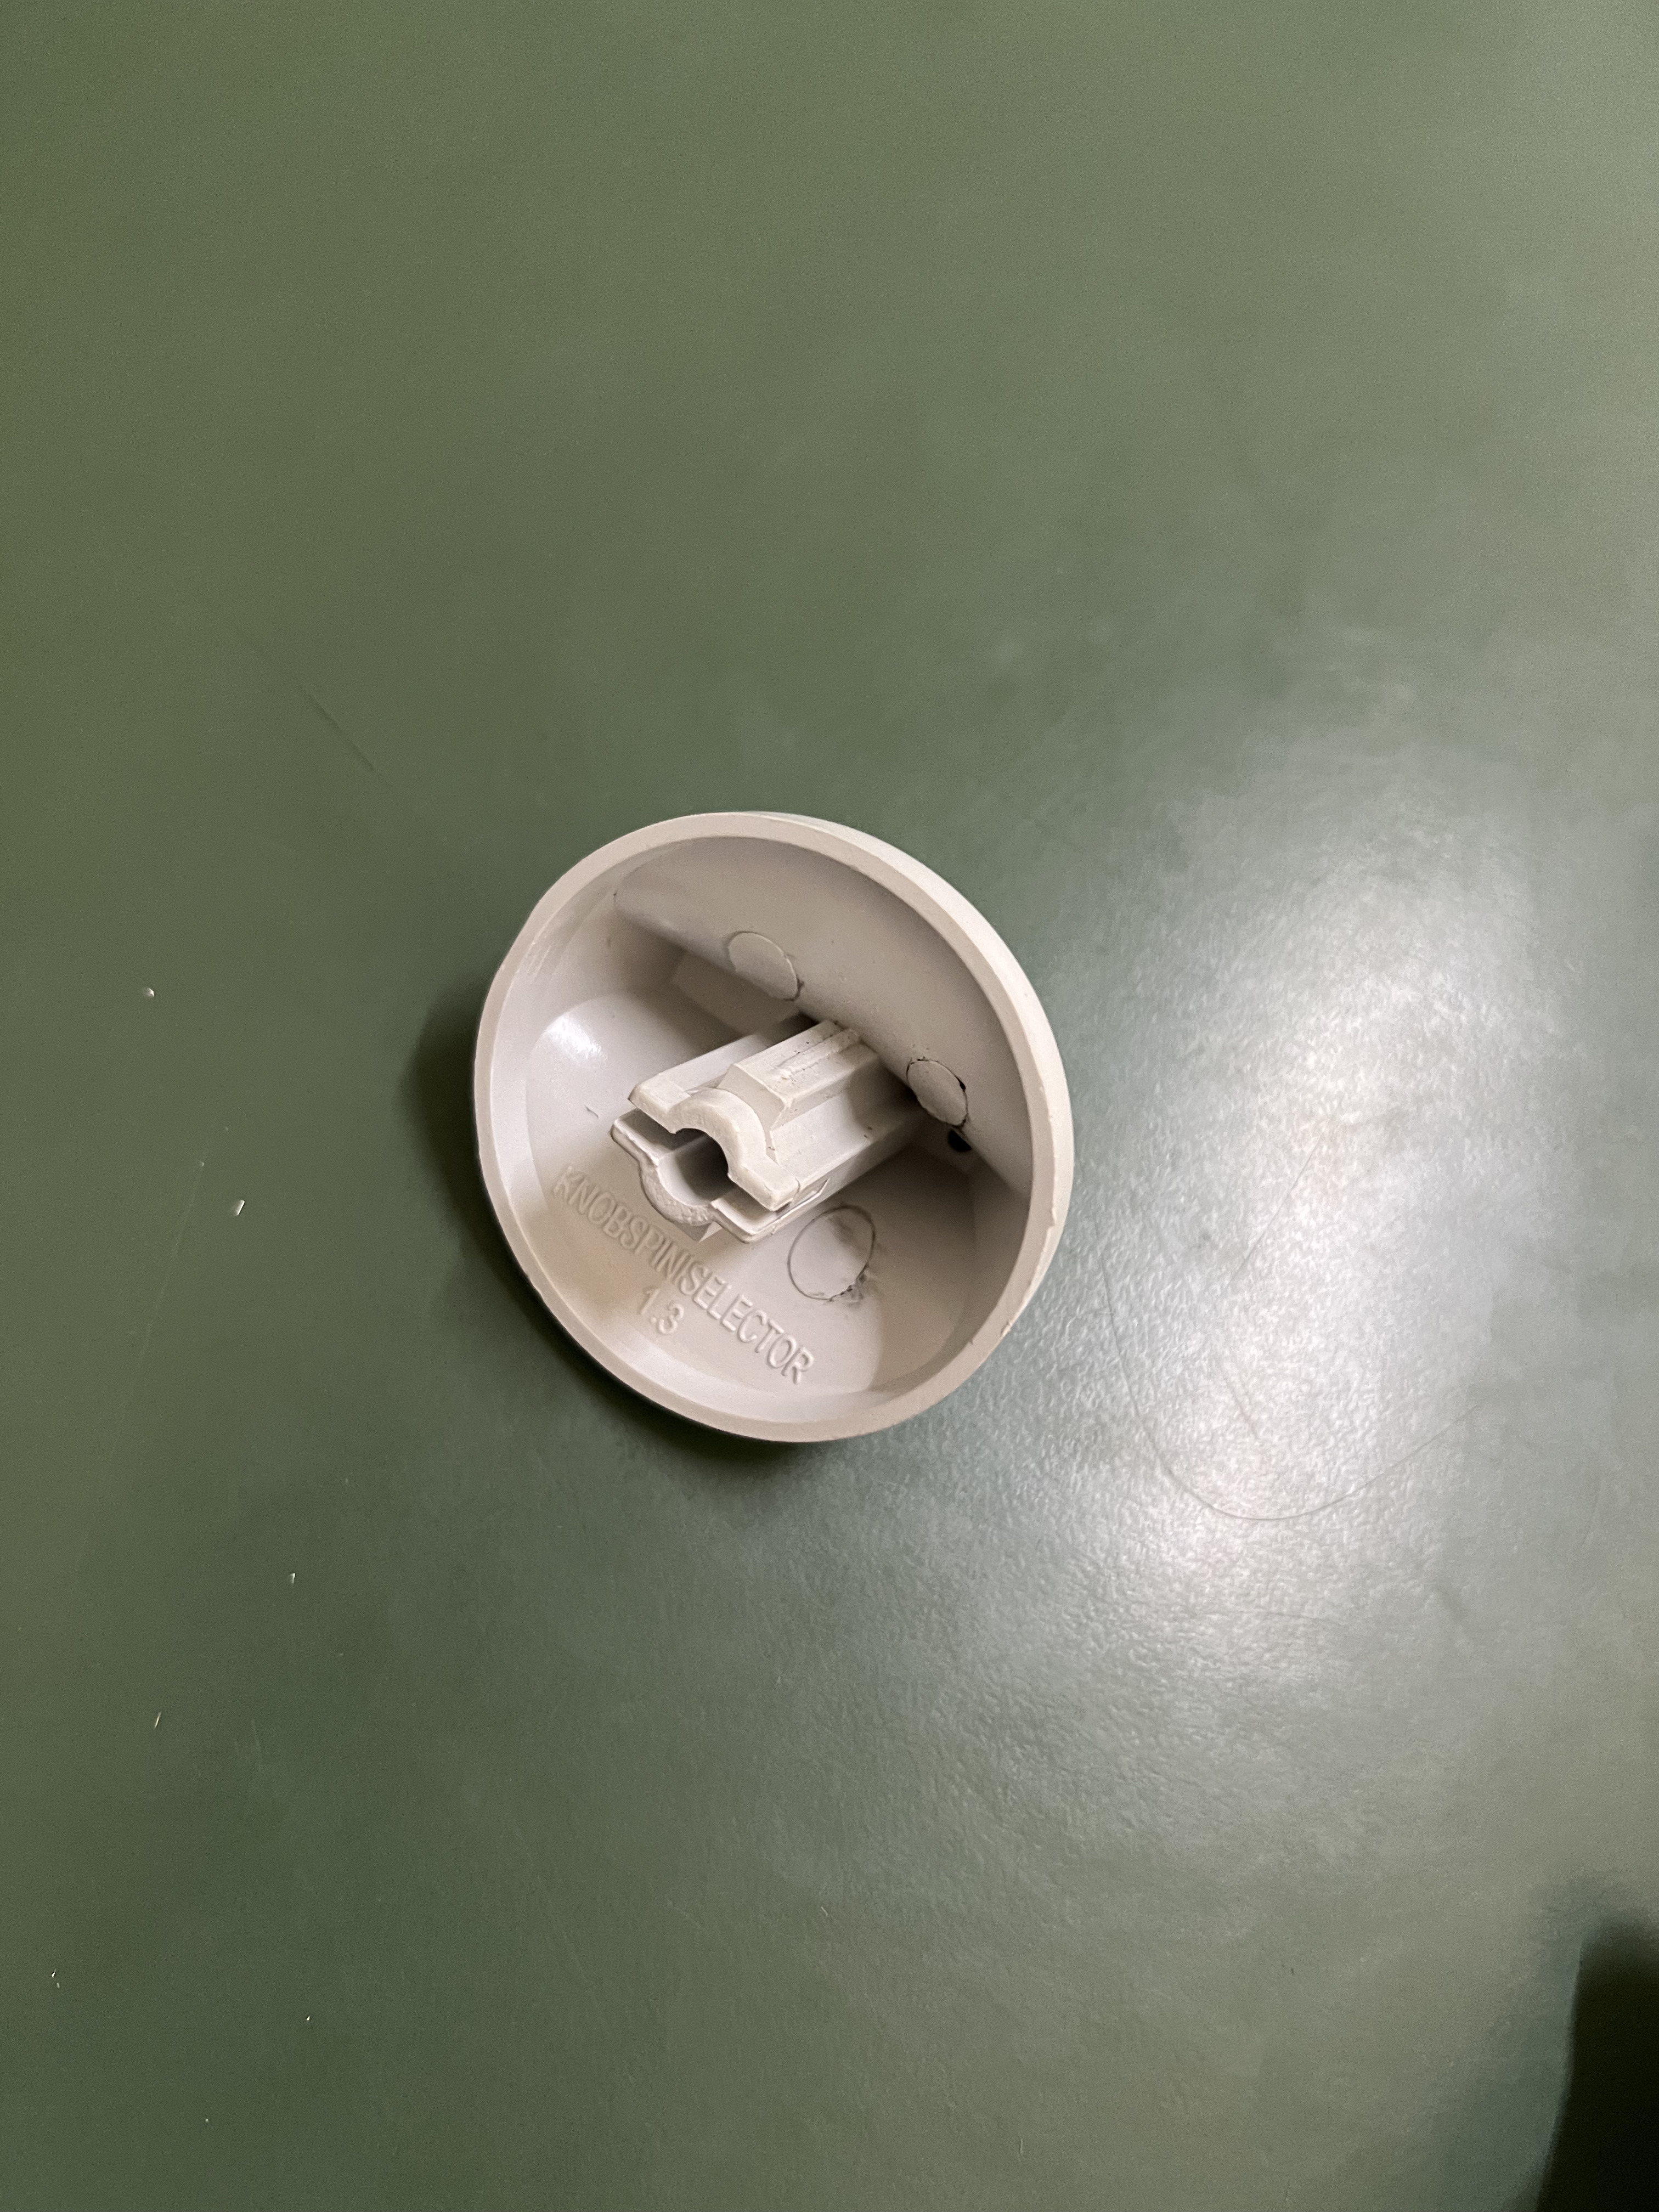regulator: (469, 798, 1084, 1460)
